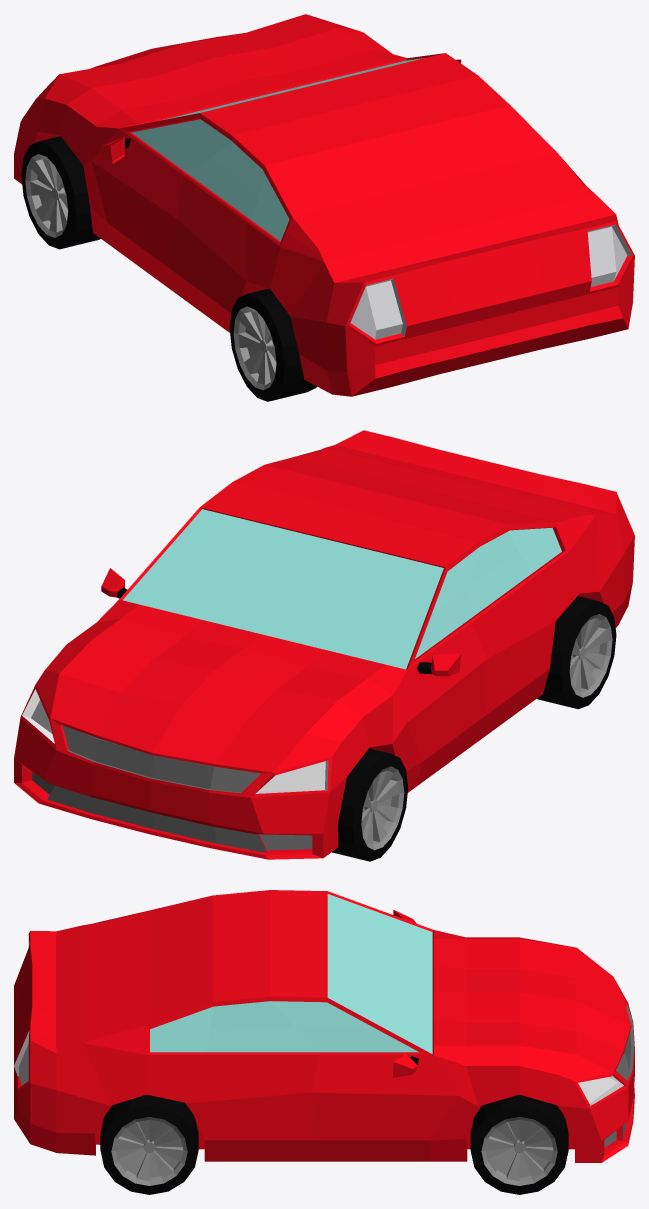
Rendered from AICarFixed.fbx.
3 renders of one model, top to bottom at view 1: azimuth 30°, elevation 25°; view 2: azimuth 150°, elevation 25°; view 3: azimuth 270°, elevation 25°, orthographic. The views are drawn at different scales.
Visible parts, largest first — view 1: Cube; view 2: Cube; view 3: Cube.
Boxes of the visible parts, x1,y1,x2,y2 form: Cube: (14, 14, 634, 401); Cube: (14, 430, 634, 861); Cube: (14, 890, 634, 1194).
Size of the model in its own units: 256 by 141 by 440.
